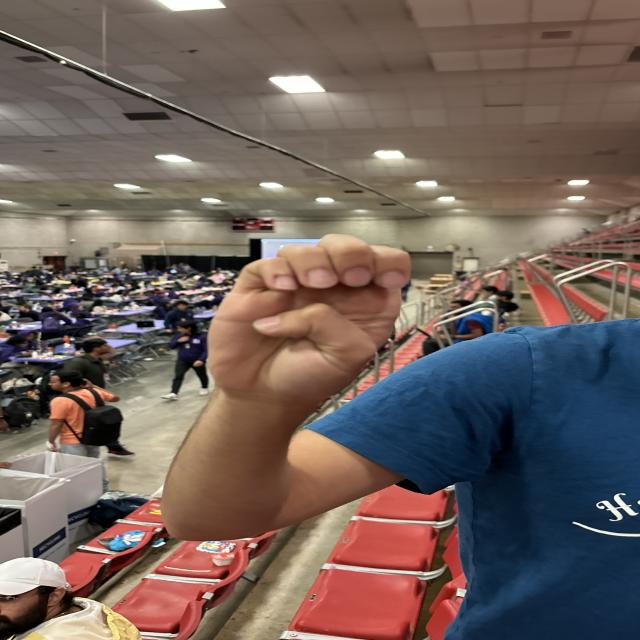E: (193, 234, 393, 416)
